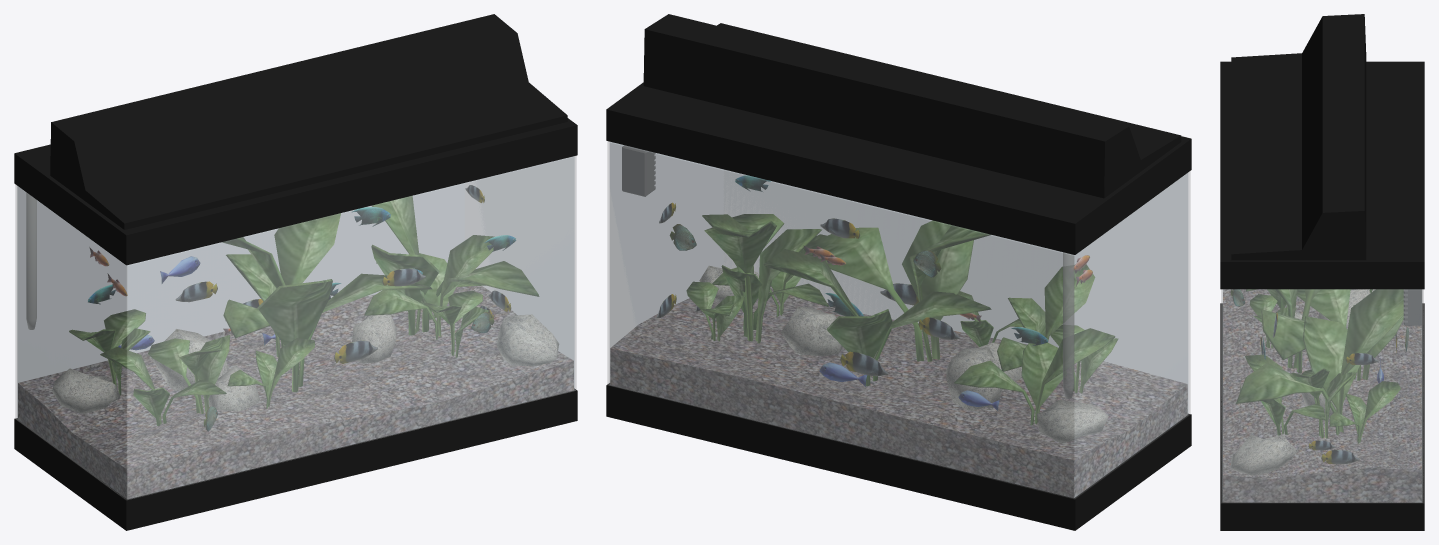
Rendered from sh_scopia_aquarium.glb.
3 views of the same model, side by side, from view 1: azimuth 30°, elevation 25°; view 2: azimuth 150°, elevation 25°; view 3: azimuth 270°, elevation 25° (orthographic). The views are drawn at different scales.
Size of the model in its own units: 0.702 by 0.52 by 0.302.
